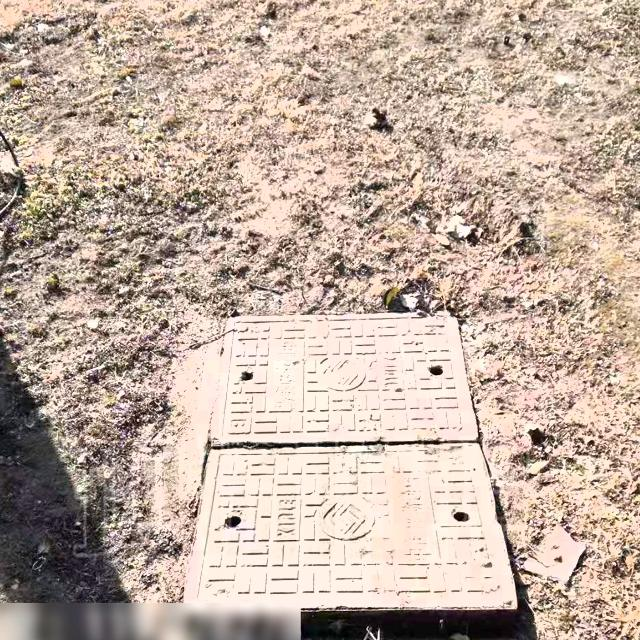uncovered: (184, 312, 528, 640)
